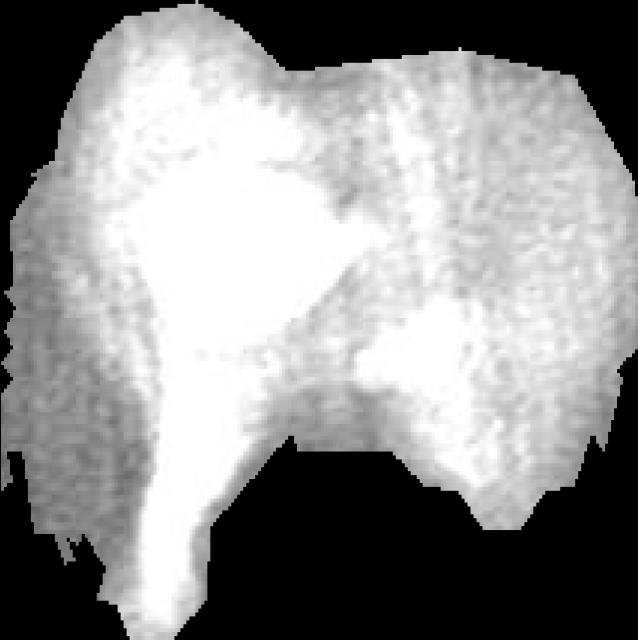tumor_moderate_chance: (1, 0, 638, 640)
